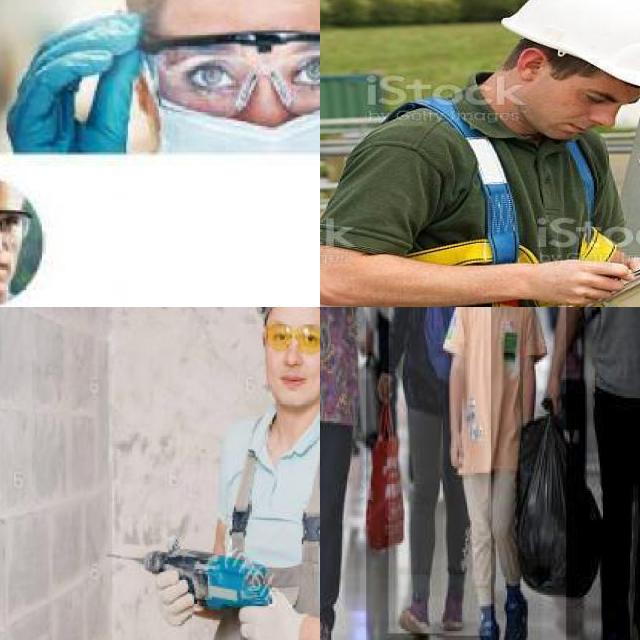face_nomask: (263, 324, 320, 393), (0, 212, 26, 286)
glasses: (133, 30, 320, 121), (264, 319, 320, 362), (0, 205, 36, 249)
hand_glove: (2, 10, 142, 156), (234, 587, 315, 640), (152, 565, 202, 630)
hand_noglove: (537, 362, 570, 428), (441, 423, 474, 477), (371, 362, 398, 407)
person: (143, 307, 320, 640), (388, 307, 491, 635), (446, 307, 543, 640), (566, 307, 640, 640), (320, 307, 367, 640)
shoes: (396, 591, 436, 640), (500, 588, 535, 640), (472, 607, 504, 640), (440, 596, 465, 632), (320, 611, 345, 640)
